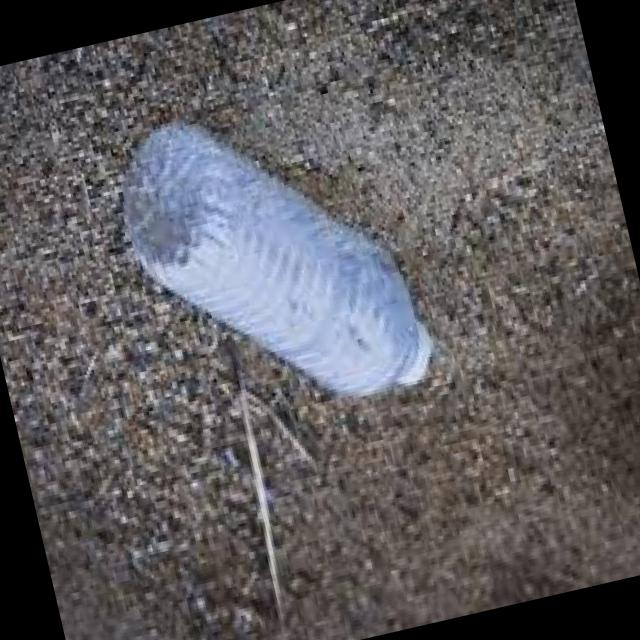plastic_bottle: (106, 77, 438, 439)
